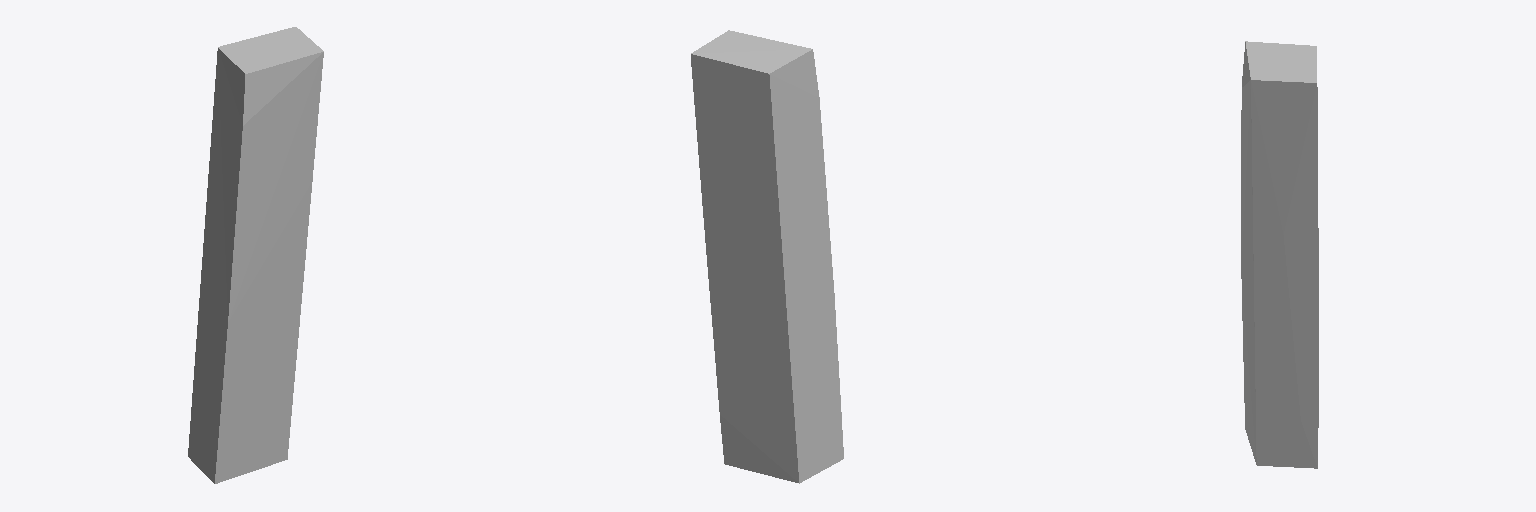
Rendered from trash_bin_collision_51.obj.
3 views of the same model, side by side, from view 1: azimuth 30°, elevation 25°; view 2: azimuth 150°, elevation 25°; view 3: azimuth 270°, elevation 25° (orthographic).
Bounding box in the file's own units: 0.027 × 0.0888 × 0.0154.